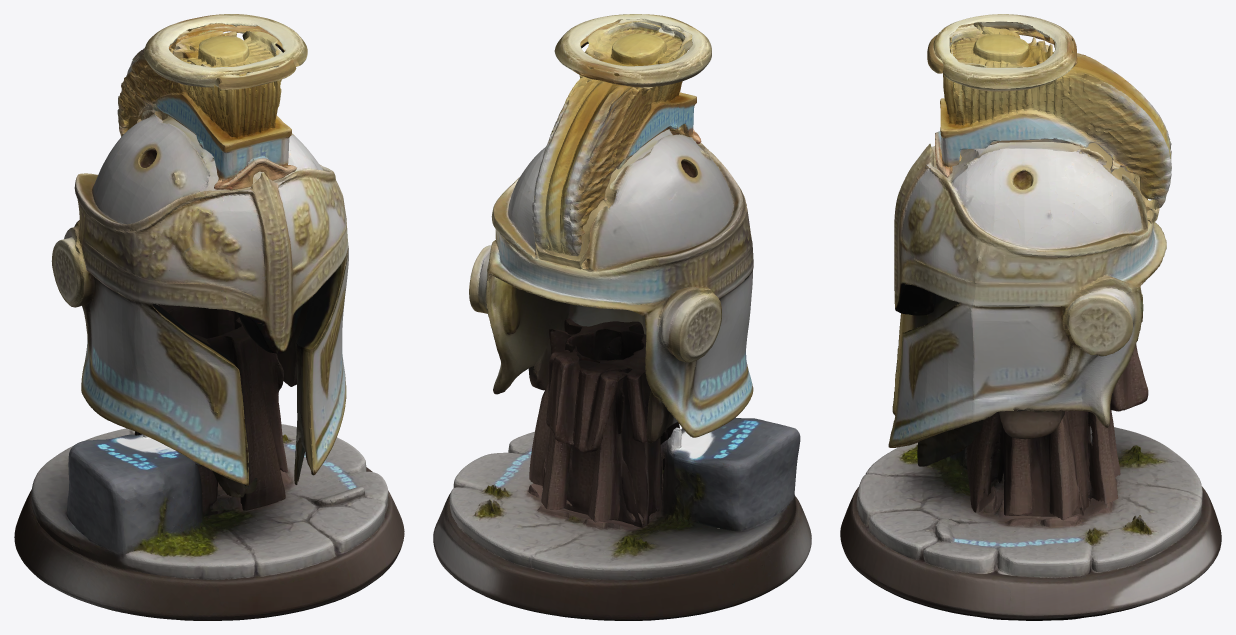
3 views of the same model, side by side, from view 1: azimuth 30°, elevation 25°; view 2: azimuth 150°, elevation 25°; view 3: azimuth 270°, elevation 25° (orthographic). The views are drawn at different scales.
Parts seen in each view (by area): view 1: 2, 0, 3, 1, 4; view 2: 2, 0, 1, 3, 4; view 3: 2, 0, 3, 1, 4.
Boxes of the visible parts, x1,y1,x2,y2 form: 2: [51, 110, 348, 497]; 0: [14, 424, 404, 620]; 3: [117, 31, 296, 190]; 1: [134, 304, 287, 516]; 4: [144, 14, 307, 87]; 2: [469, 129, 753, 443]; 0: [433, 417, 811, 620]; 1: [529, 318, 679, 527]; 3: [532, 19, 701, 256]; 4: [554, 14, 711, 87]; 2: [888, 142, 1166, 466]; 0: [840, 426, 1221, 620]; 3: [927, 26, 1171, 207]; 1: [966, 344, 1148, 520]; 4: [933, 14, 1077, 91].
Bounding box in the file's own units: 0.6357 × 0.9159 × 0.6313.
Materials: 5 (5 with a texture image).
